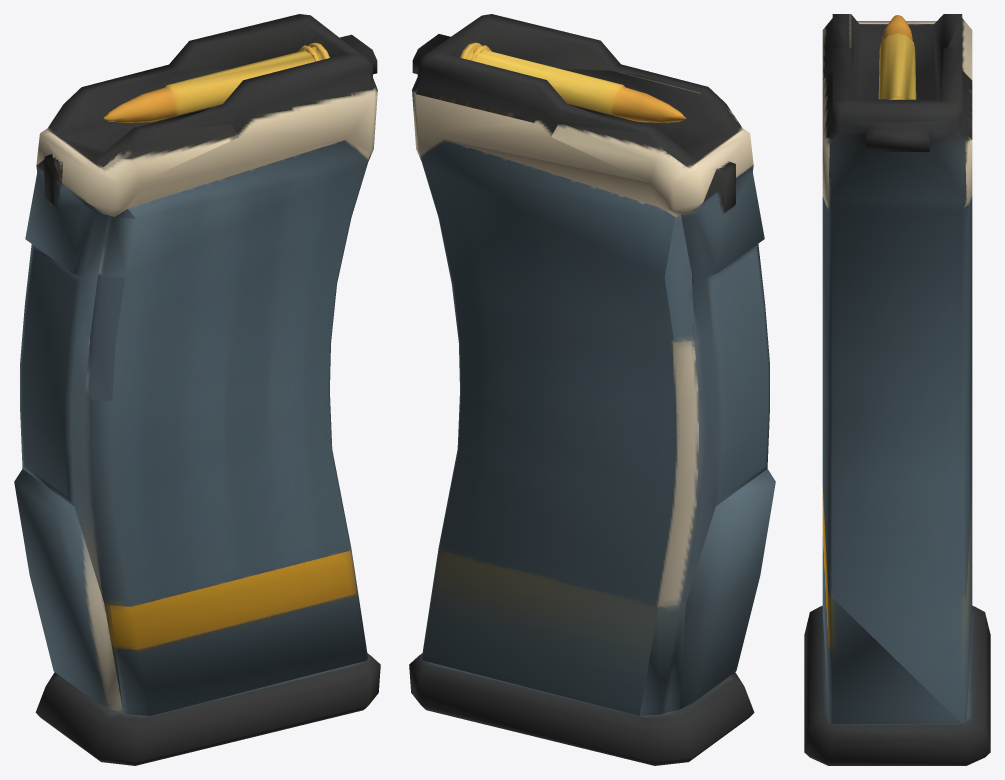
File: magazine_01.glb
3 views of the same model, side by side, from view 1: azimuth 30°, elevation 25°; view 2: azimuth 150°, elevation 25°; view 3: azimuth 270°, elevation 25° (orthographic). The views are drawn at different scales.
Parts seen in each view (by area): view 1: magazine_01; view 2: magazine_01; view 3: magazine_01.
Boxes of the visible parts, x1,y1,x2,y2 form: magazine_01: (14,14,380,765); magazine_01: (409,14,775,765); magazine_01: (804,14,990,765).
Size of the model in its own units: 0.0641 by 0.12 by 0.0308.
Materials: 1 (1 with a texture image).
